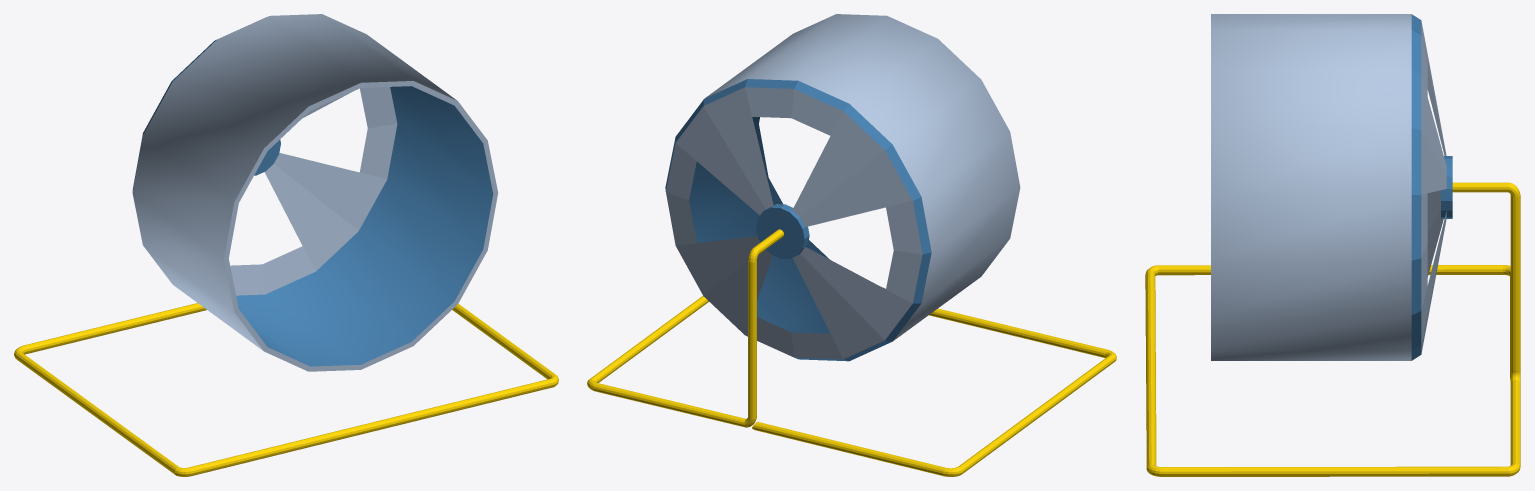
Rendered from wheel.fbx.
3 renders of one model, left to right at view 1: azimuth 30°, elevation 25°; view 2: azimuth 150°, elevation 25°; view 3: azimuth 270°, elevation 25°, orthographic. The views are drawn at different scales.
Visible parts, largest first — view 1: Roda, Suporte; view 2: Roda, Suporte; view 3: Roda, Suporte.
Part boxes in pixels (<box>): Roda: <box>132,14,498,371</box>; Suporte: <box>14,303,558,476</box>; Roda: <box>665,14,1020,361</box>; Suporte: <box>587,229,1116,476</box>; Roda: <box>1211,14,1452,360</box>; Suporte: <box>1145,182,1520,476</box>.
Size of the model in its own units: 975 by 783 by 749.
